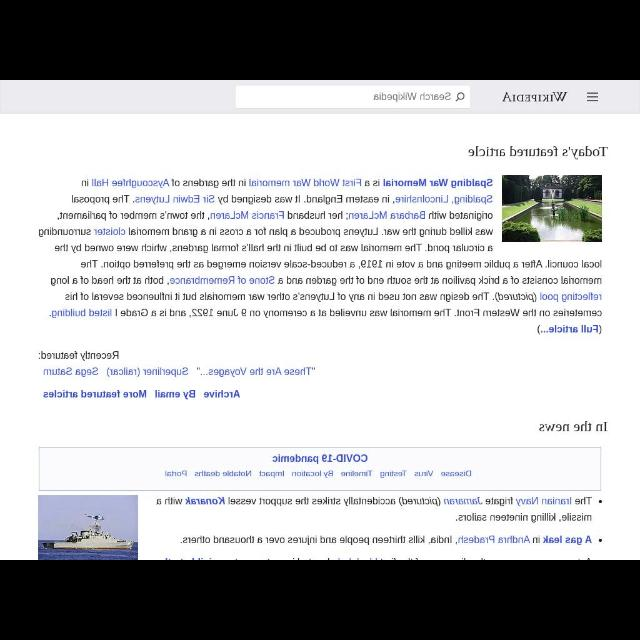icon: (584, 90, 602, 104), (455, 91, 465, 102), (596, 496, 606, 506), (598, 536, 604, 544)
image: (502, 174, 602, 242), (37, 496, 136, 558), (498, 90, 568, 106)
input: (235, 87, 470, 109)
text: (37, 259, 606, 337), (36, 176, 494, 254), (153, 496, 592, 522), (178, 533, 594, 545), (34, 364, 320, 378), (34, 387, 242, 401), (466, 146, 610, 162), (538, 418, 610, 436), (35, 348, 123, 362), (271, 452, 369, 464), (372, 90, 452, 102), (193, 470, 253, 480), (290, 468, 334, 480), (341, 468, 374, 479), (440, 468, 474, 478), (378, 468, 407, 479), (257, 468, 285, 479), (163, 469, 189, 478), (415, 470, 435, 478)
toolbar: (1, 80, 639, 112)
